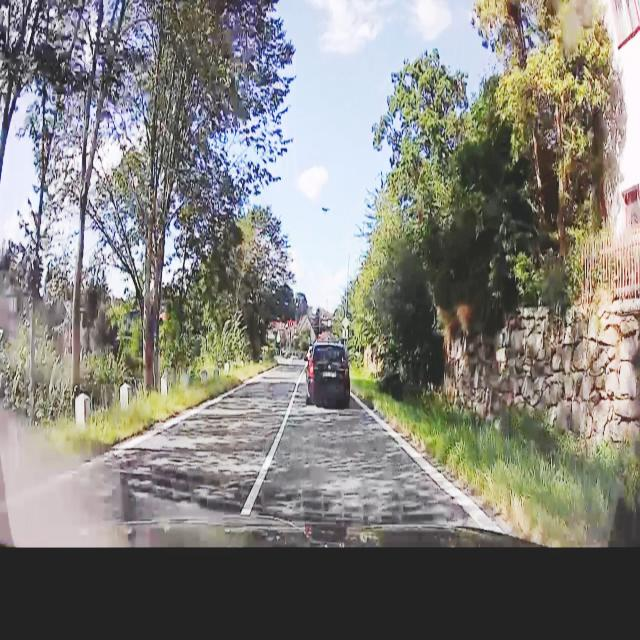Priority road: (342, 315, 351, 330)
